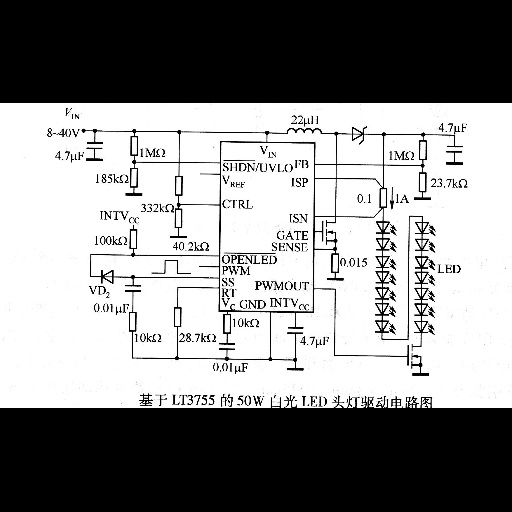capacitor: (443, 143, 468, 155), (84, 137, 105, 151), (124, 283, 144, 296), (218, 341, 237, 354), (284, 325, 305, 336)
firstresistance: (173, 173, 185, 198), (329, 251, 340, 276), (128, 167, 140, 189), (418, 138, 429, 162), (418, 171, 429, 194), (221, 314, 233, 335), (129, 227, 139, 251), (129, 135, 139, 158), (173, 306, 183, 329), (128, 311, 138, 333), (174, 207, 183, 231)
inductor: (284, 125, 325, 137)
mos: (321, 219, 337, 245), (407, 344, 422, 369)
seconddiode: (98, 268, 118, 285)
secondled: (367, 302, 402, 318), (367, 320, 399, 336), (369, 287, 402, 302), (412, 303, 439, 320), (371, 271, 403, 285), (412, 221, 439, 237), (411, 320, 438, 336), (374, 219, 399, 236), (412, 286, 438, 302), (373, 238, 400, 253), (412, 271, 438, 286), (373, 256, 400, 270), (413, 238, 437, 253), (413, 255, 437, 270)
